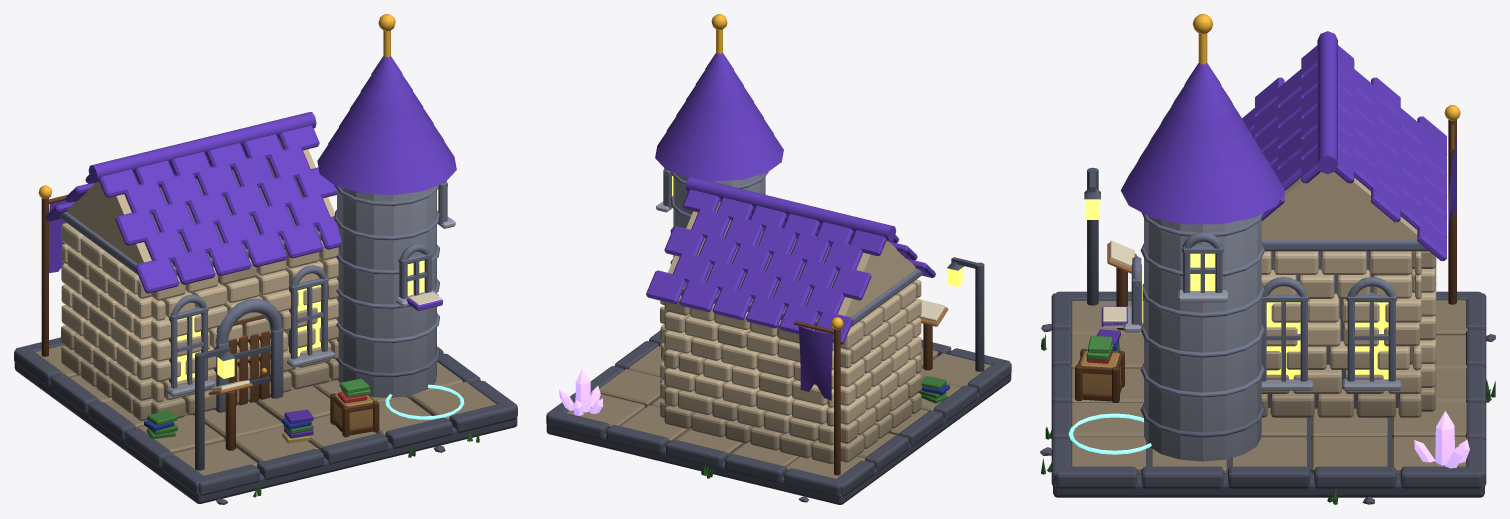
Rendered from library.glb.
The picture shows the model from 3 angles, left to right: view 1: azimuth 30°, elevation 25°; view 2: azimuth 150°, elevation 25°; view 3: azimuth 270°, elevation 25°; orthographic projection. The views are drawn at different scales.
Parts seen in each view (by area): view 1: t0_stone_warm, t0_roof_violet, t0_stone_dark, t0_stone, t0_wood_dark, t1_iron, t0_moss, t0_window, t2_wood_dark, t2_roof_violet, t0_wood_light; view 2: t0_stone_warm, t0_roof_violet, t0_stone_dark, t2_roof_violet, t1_iron, t2_wood_dark, t0_stone, t3_crystal_violet, t0_moss; view 3: t0_stone_warm, t0_roof_violet, t0_stone_dark, t0_stone, t0_window, t0_wood_dark, t3_crystal_violet, t1_iron, t2_wood_dark, t0_moss, t0_wood_light, t0_rune (+1 smaller).
Part boxes in pixels (<box>): t0_stone_warm: <box>35,138,496,475</box>; t0_roof_violet: <box>45,56,456,438</box>; t0_stone_dark: <box>14,170,517,503</box>; t0_stone: <box>165,186,455,397</box>; t0_wood_dark: <box>225,316,379,450</box>; t1_iron: <box>195,346,235,470</box>; t0_moss: <box>146,378,479,497</box>; t0_window: <box>177,189,438,381</box>; t2_wood_dark: <box>41,195,67,356</box>; t2_roof_violet: <box>49,200,67,272</box>; t0_wood_light: <box>334,394,373,429</box>; t0_stone_warm: <box>567,201,991,478</box>; t0_roof_violet: <box>646,53,935,344</box>; t0_stone_dark: <box>546,168,1011,504</box>; t2_roof_violet: <box>798,326,833,400</box>; t1_iron: <box>947,257,984,371</box>; t2_wood_dark: <box>794,320,840,475</box>; t0_stone: <box>656,173,765,382</box>; t3_crystal_violet: <box>559,369,603,415</box>; t0_moss: <box>701,376,947,478</box>; t0_stone_warm: <box>1070,172,1467,474</box>; t0_roof_violet: <box>1096,31,1446,351</box>; t0_stone_dark: <box>1051,212,1486,497</box>; t0_stone: <box>1123,216,1401,461</box>; t0_window: <box>1142,253,1388,379</box>; t0_wood_dark: <box>1075,267,1127,402</box>; t3_crystal_violet: <box>1414,411,1469,468</box>; t1_iron: <box>1084,167,1100,305</box>; t2_wood_dark: <box>1448,119,1456,304</box>; t0_moss: <box>1041,334,1495,504</box>; t0_wood_light: <box>1080,351,1120,394</box>; t0_rune: <box>1068,413,1151,454</box>.
Bounding box in the file's own units: 3.04 × 3.37 × 3.1.
